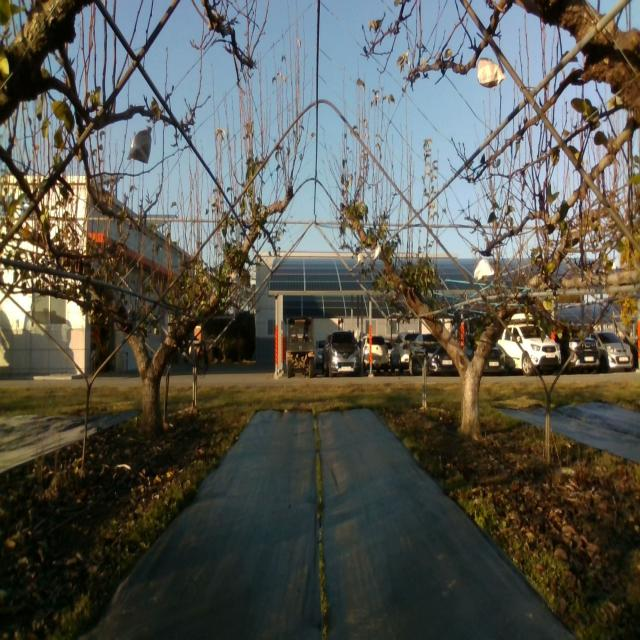pearbags: (127, 124, 152, 164), (477, 56, 505, 88), (474, 258, 494, 281)
